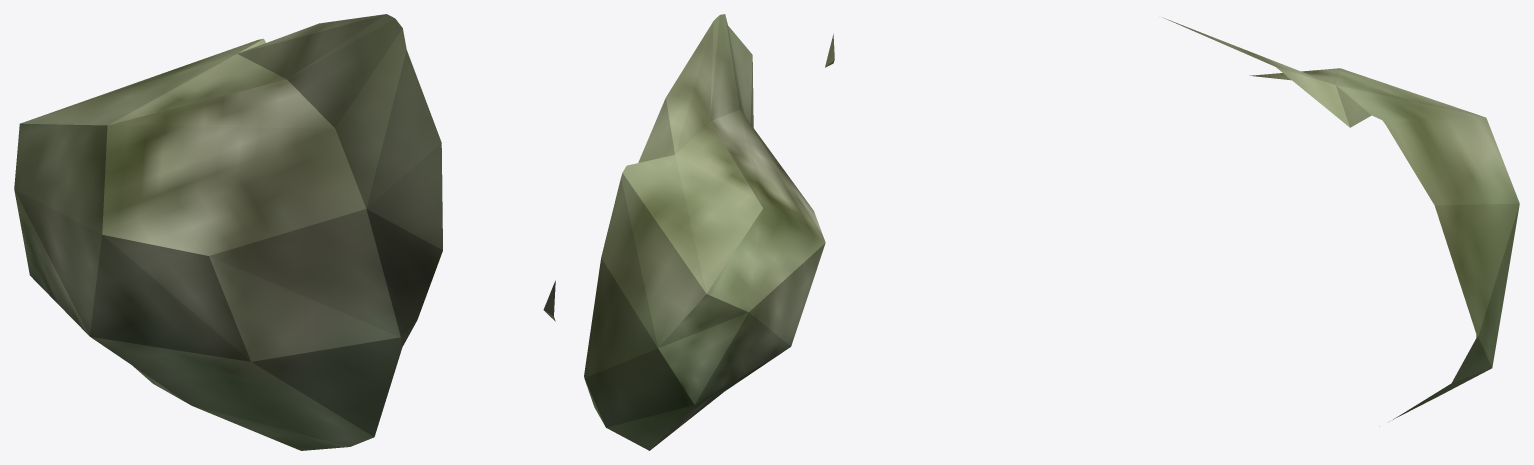
3 renders of one model, left to right at view 1: azimuth 30°, elevation 25°; view 2: azimuth 150°, elevation 25°; view 3: azimuth 270°, elevation 25°, orthographic. The views are drawn at different scales.
Size of the model in its own units: 0.278 by 0.602 by 0.82.
1 material, 1 textured.
